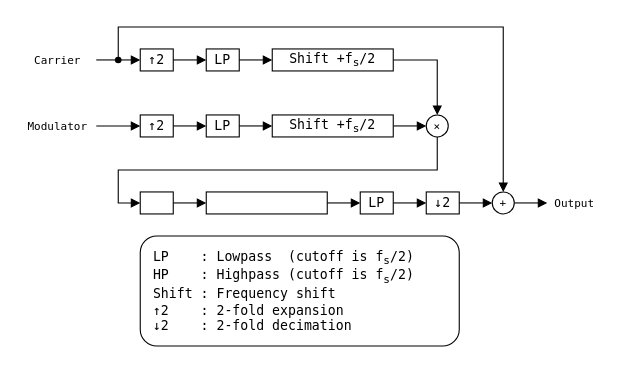
The diagram is 620 pixels wide and 365 high, and some of its shapes have lost their labels. Each missing label, with the centre of its shape:
"HP" belongs at point 156,202.
"Shift -f s /2" belongs at point 266,202.
